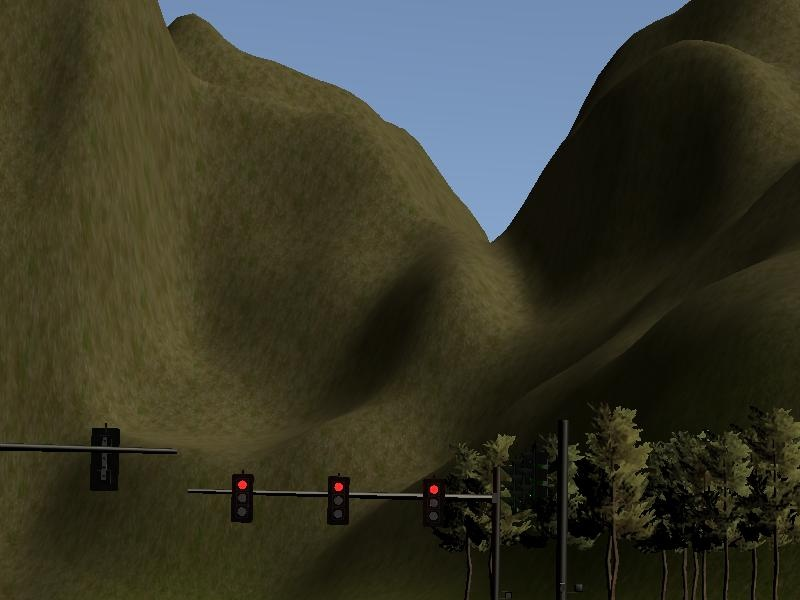red: (227, 468, 260, 532), (416, 471, 448, 535), (324, 468, 354, 532)
